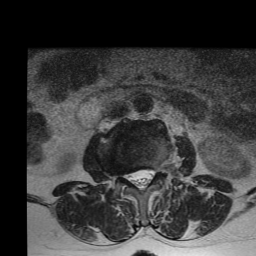CCS_normal: (137, 162, 145, 198)
LFS_normal: (155, 159, 163, 181)
LLS_normal: (145, 161, 154, 190)
RFS_severe_stenosis: (116, 164, 126, 185)
RLS_normal: (126, 161, 137, 195)
